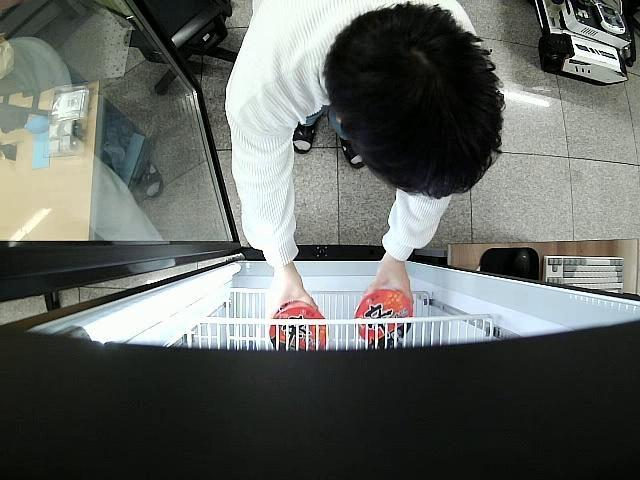01_ShinRamen_L: (356, 292, 412, 344), (270, 303, 326, 349)
